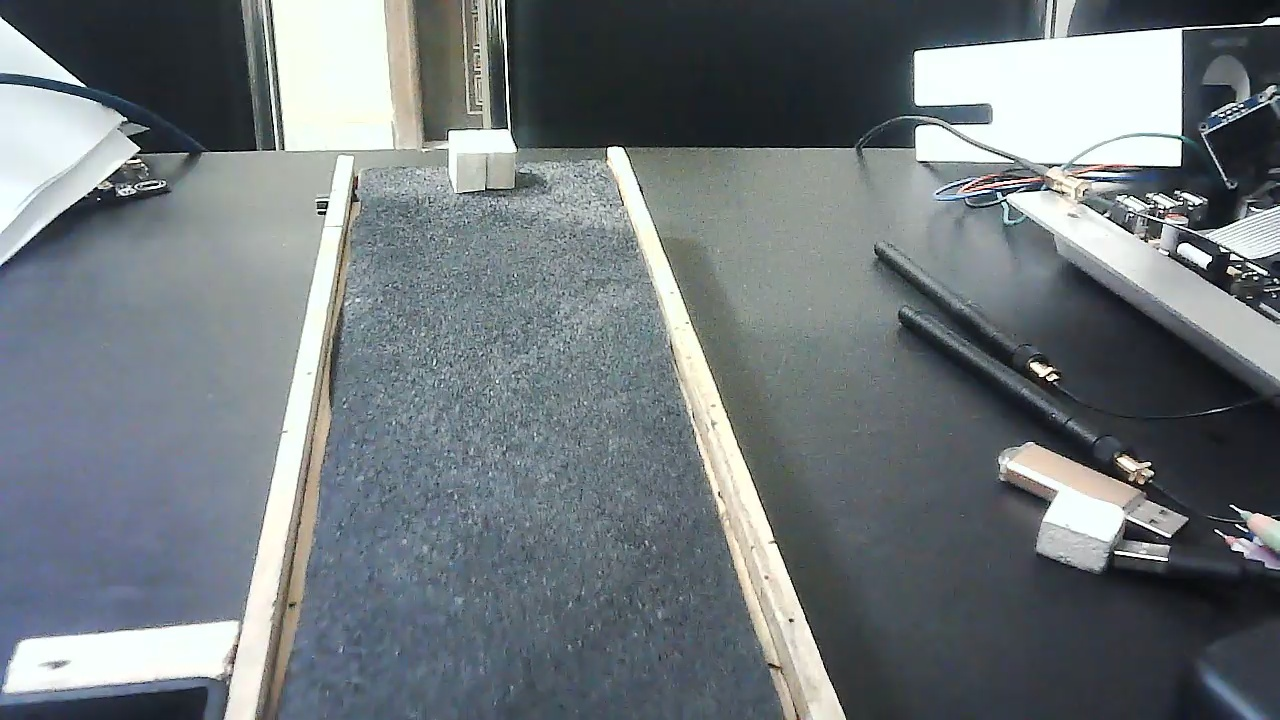Small: (448, 126, 516, 194)
